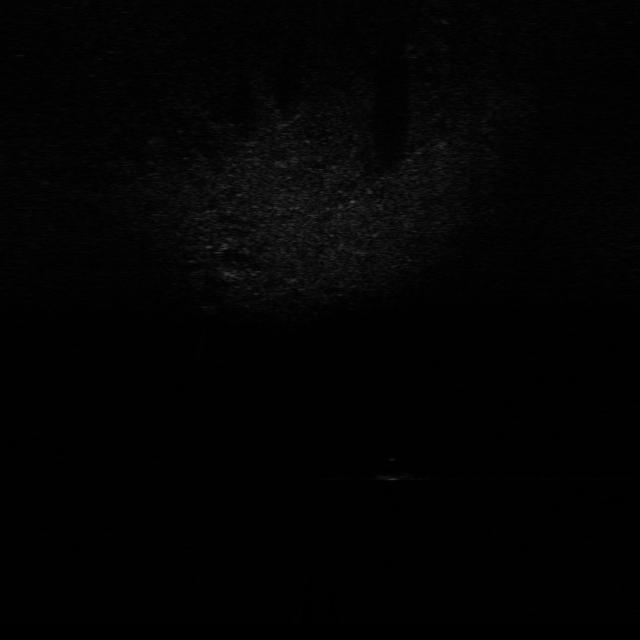ball: (373, 452, 416, 483)
